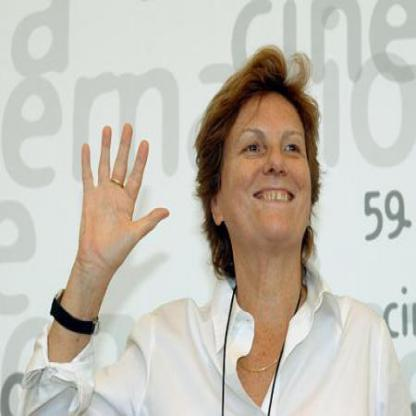face: (215, 78, 322, 255)
